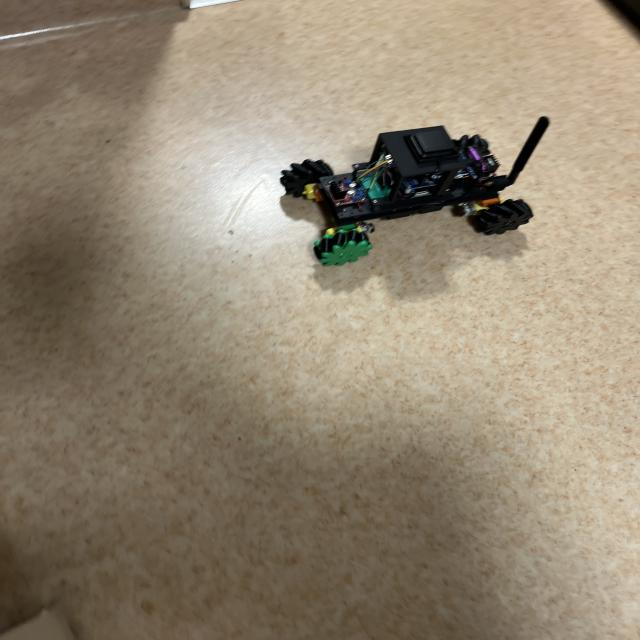robot: (280, 117, 549, 266)
